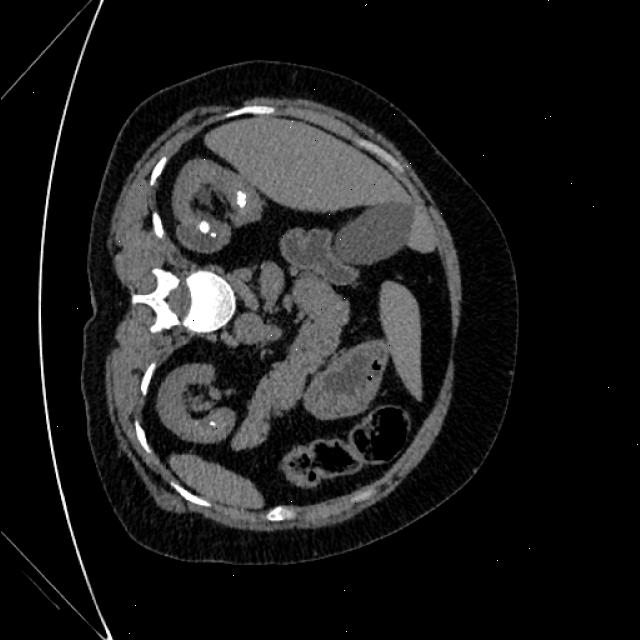kidneystone: (235, 191, 246, 207), (198, 221, 209, 234)
